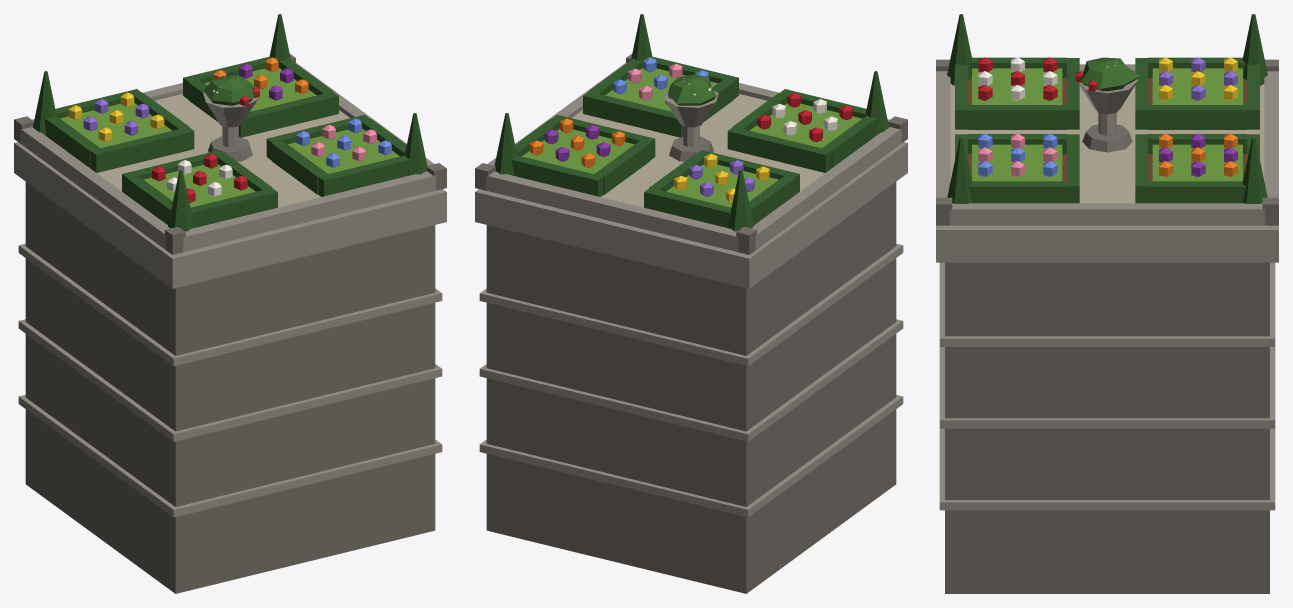
Rendered from decor_parterre.glb.
The picture shows the model from 3 angles, left to right: view 1: azimuth 30°, elevation 25°; view 2: azimuth 150°, elevation 25°; view 3: azimuth 270°, elevation 25°; orthographic projection. The views are drawn at different scales.
Visible parts, largest first — view 1: decor_parterre; view 2: decor_parterre; view 3: decor_parterre.
Part boxes in pixels (x1,y1,x2,y2): decor_parterre: (14,14,446,593); decor_parterre: (475,14,907,593); decor_parterre: (936,14,1278,593).
Size of the model in its own units: 3.8 by 5.68 by 3.8.
